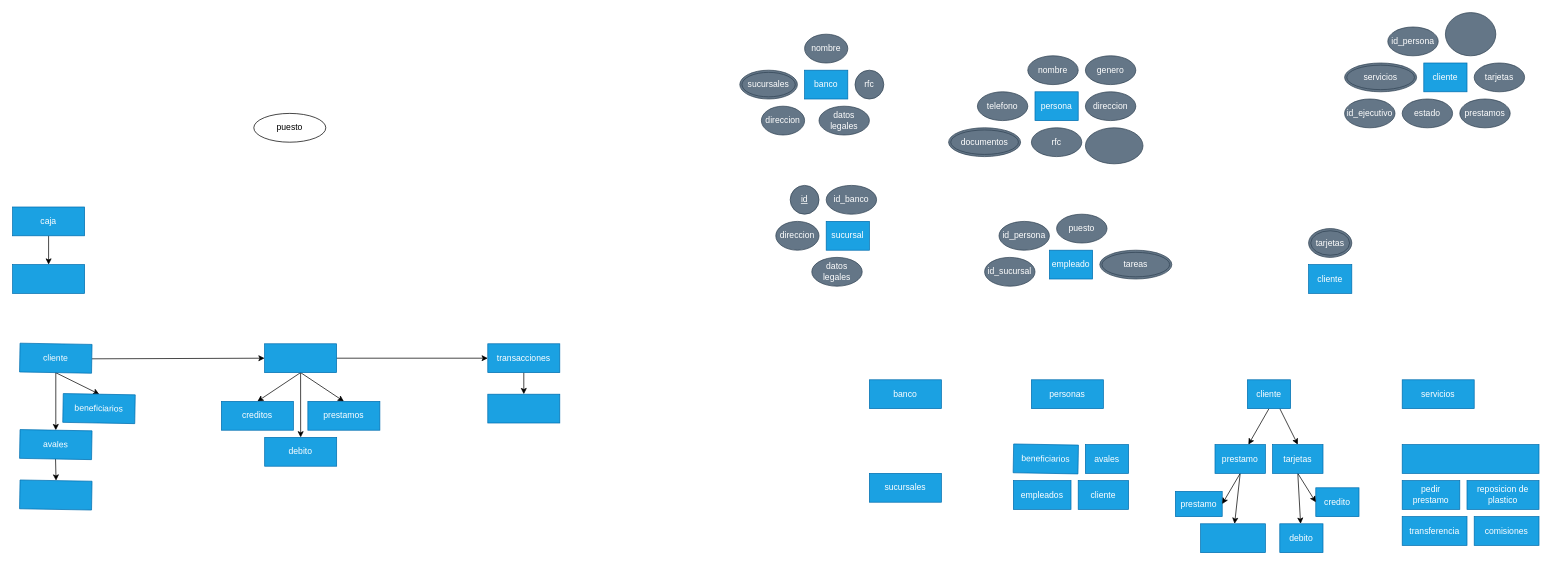
The diagram is 1552 pixels wide and 565 high, and some of its shapes have lost their labels. The centre of each missing label's shape, as x and y in pixels:
"comision por transaccion" belongs at (523,408).
"crear cuenta debito" belongs at (1470,458).
"credito hipotecario" belongs at (1232,538).
"cuentas" belongs at (300,358).
"denominaciones" belongs at (48,278).
"fecha nacimiento" belongs at (1114,145).
"numero de cuenta" belongs at (1470,34).
"propiedades" belongs at (55,494).
